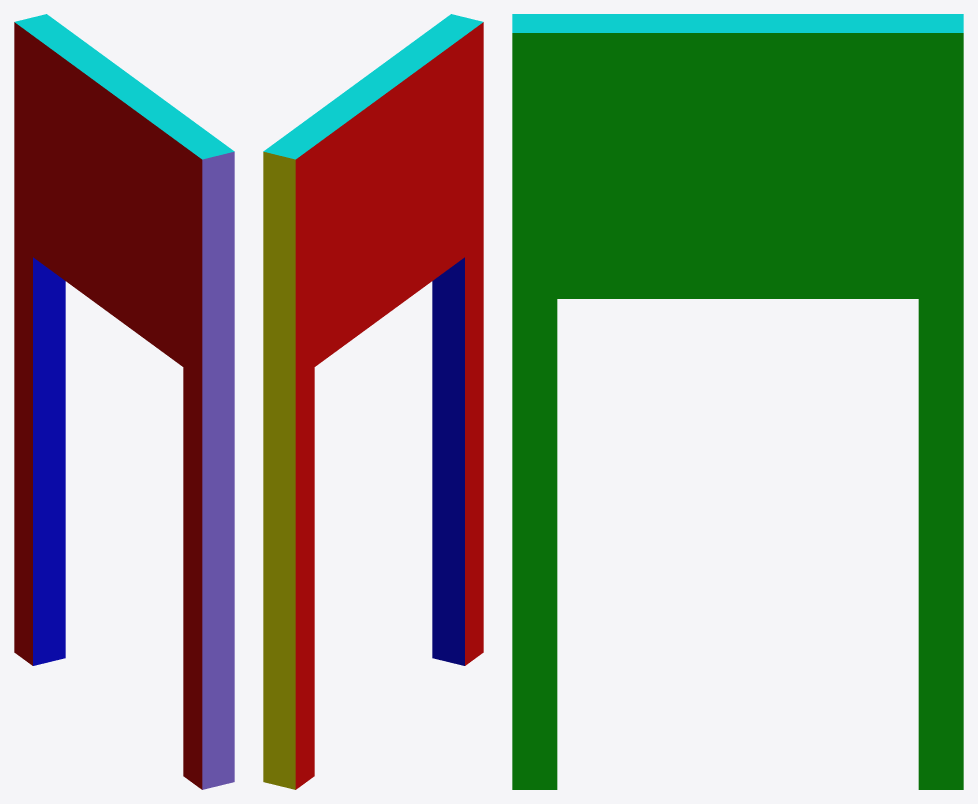
Rendered from Mesh_Wall_09.FBX.
3 renders of one model, left to right at view 1: azimuth 30°, elevation 25°; view 2: azimuth 150°, elevation 25°; view 3: azimuth 270°, elevation 25°, orthographic. The views are drawn at different scales.
Visible parts, largest first — view 1: Mesh_Wall_09; view 2: Mesh_Wall_09; view 3: Mesh_Wall_09.
Boxes of the visible parts, bbox=[...] form: Mesh_Wall_09: bbox=[14, 14, 234, 789]; Mesh_Wall_09: bbox=[263, 14, 483, 789]; Mesh_Wall_09: bbox=[512, 14, 963, 789].
Size of the model in its own units: 20 by 370 by 200.
